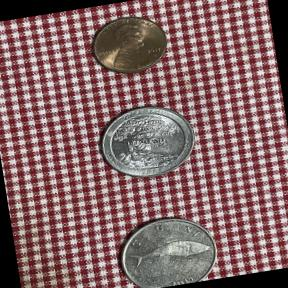coin: (89, 96, 204, 188), (106, 206, 225, 288), (82, 8, 176, 84)
